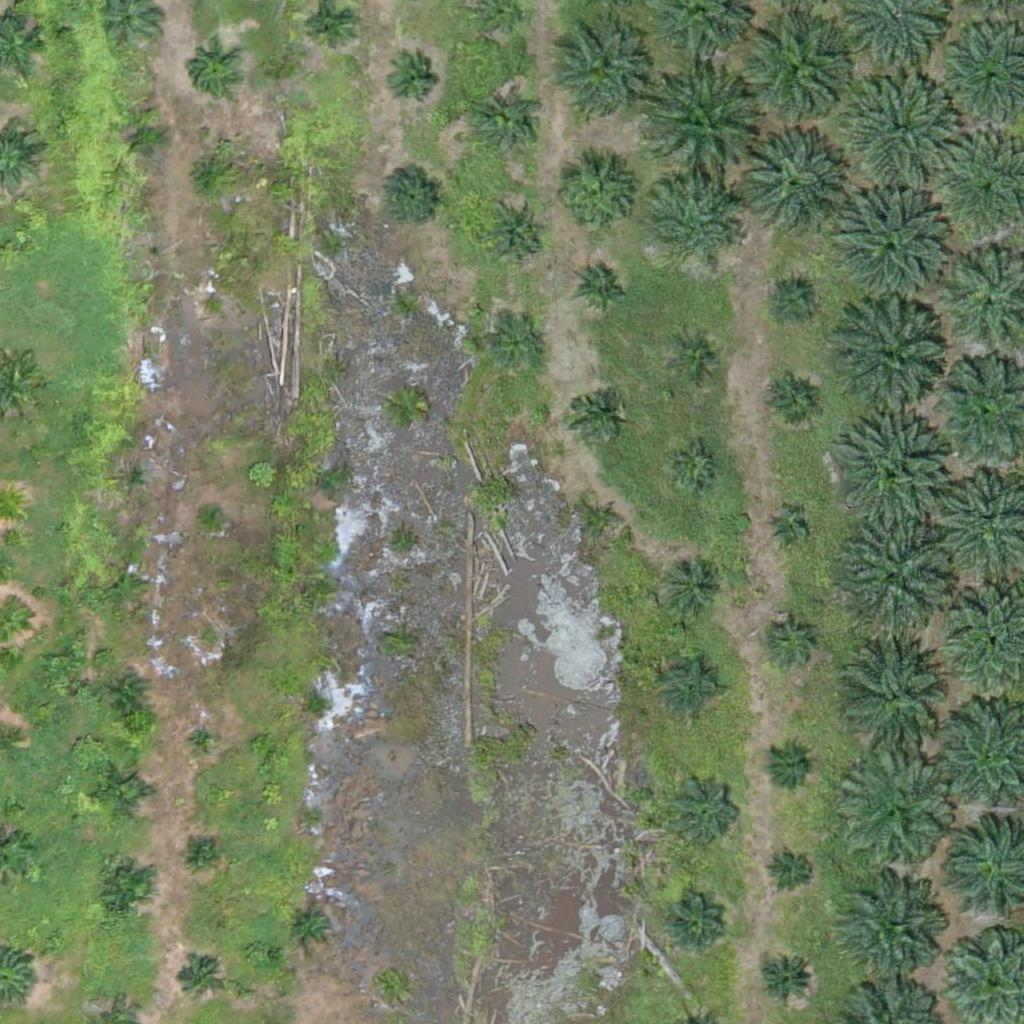Kelapa_Sawit: (848, 72, 961, 186), (841, 758, 954, 872), (734, 128, 847, 241), (838, 417, 951, 530), (839, 519, 952, 632), (839, 634, 952, 747), (740, 16, 852, 130), (648, 72, 760, 186), (834, 877, 946, 991), (836, 194, 948, 307), (836, 306, 948, 419), (548, 29, 648, 129), (550, 152, 637, 240), (650, 179, 737, 267), (668, 771, 743, 846), (485, 204, 548, 267), (380, 163, 443, 226), (664, 898, 727, 961), (754, 948, 817, 1011), (479, 94, 541, 157), (93, 860, 155, 923), (664, 558, 726, 621), (663, 655, 725, 718), (573, 256, 635, 319), (92, 761, 154, 824), (386, 54, 436, 105), (766, 615, 816, 666), (120, 113, 170, 164), (182, 148, 232, 199), (762, 739, 812, 790), (174, 953, 224, 1004), (492, 323, 542, 373), (568, 387, 618, 437), (187, 46, 237, 96), (670, 443, 720, 493), (671, 334, 721, 384), (766, 847, 816, 897), (768, 275, 818, 325), (769, 378, 819, 428), (288, 901, 338, 951), (585, 501, 623, 539), (768, 510, 806, 548), (186, 723, 224, 761), (110, 675, 148, 713), (106, 566, 144, 604), (115, 460, 152, 498), (188, 839, 213, 865), (200, 500, 225, 525), (197, 291, 222, 316)
